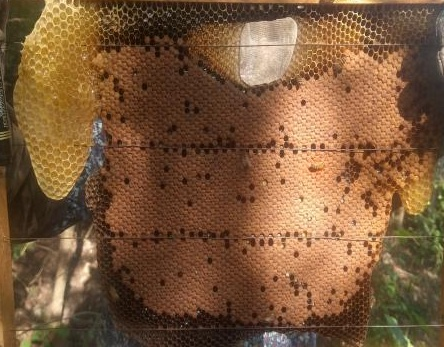cria: (93, 35, 444, 327)
